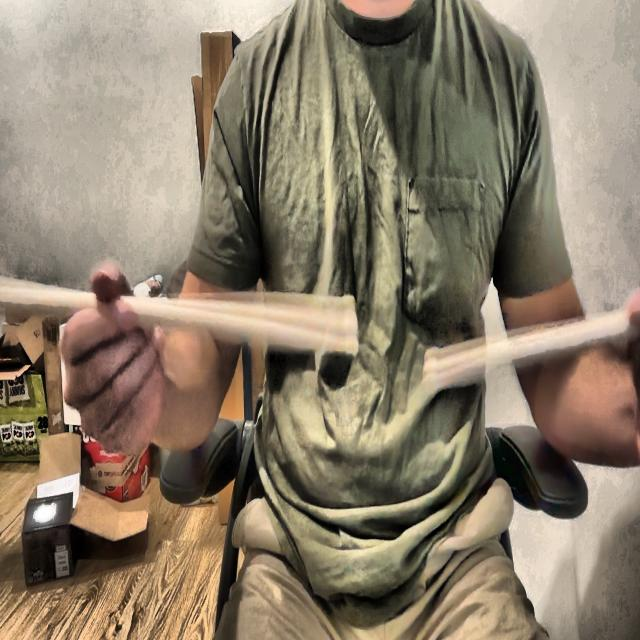Drumstick-Heads: (340, 286, 360, 362), (424, 339, 441, 399)
